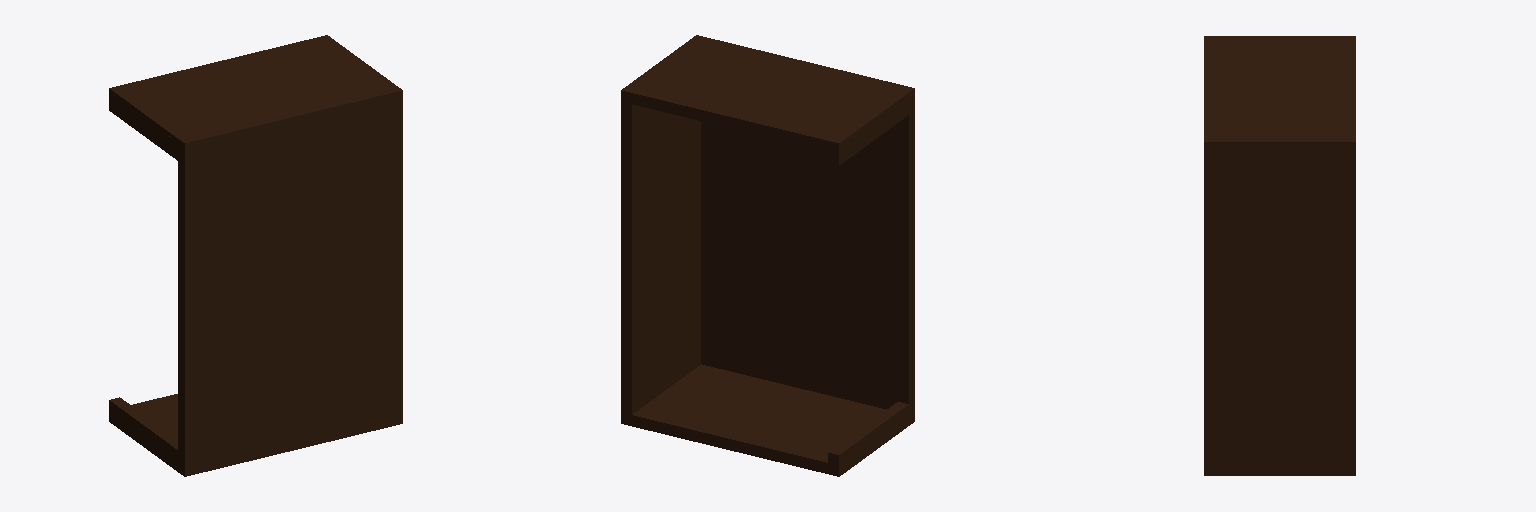
File: cabinet.obj
3 renders of one model, left to right at view 1: azimuth 30°, elevation 25°; view 2: azimuth 150°, elevation 25°; view 3: azimuth 270°, elevation 25°, orthographic.
Parts seen in each view (by area): view 1: Cube.000_Cube.006; view 2: Cube.000_Cube.006; view 3: Cube.000_Cube.006.
Part boxes in pixels (left/top/right/bottom): Cube.000_Cube.006: left=109, top=35, right=402, bottom=476; Cube.000_Cube.006: left=621, top=35, right=914, bottom=476; Cube.000_Cube.006: left=1204, top=36, right=1355, bottom=475.
Size of the model in its own units: 0.2 by 0.292 by 0.12.